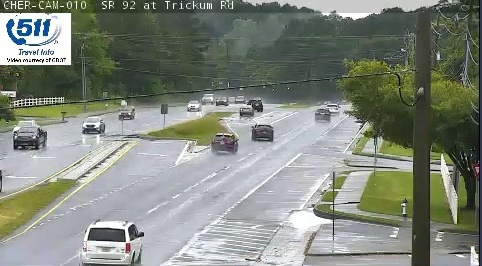car: (83, 221, 142, 265), (212, 133, 237, 152), (253, 124, 273, 140), (314, 108, 330, 122)
